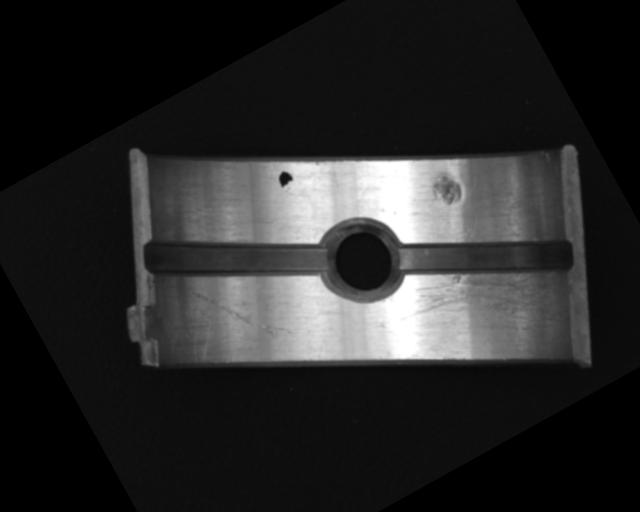blot: (274, 167, 296, 190)
bruise: (426, 169, 467, 211)
gap: (135, 170, 332, 346), (392, 177, 582, 341)
hole: (307, 205, 416, 318)
nick: (187, 256, 294, 370)
scratch: (386, 224, 580, 397)
